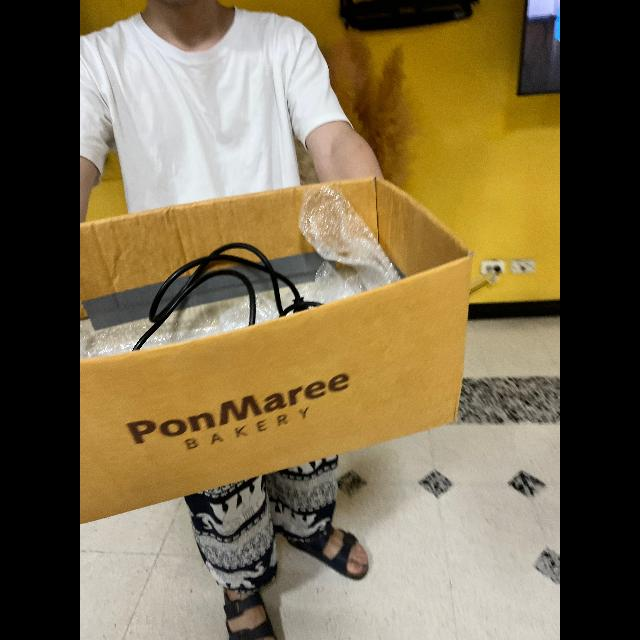cardboard_box: (80, 169, 486, 529)
